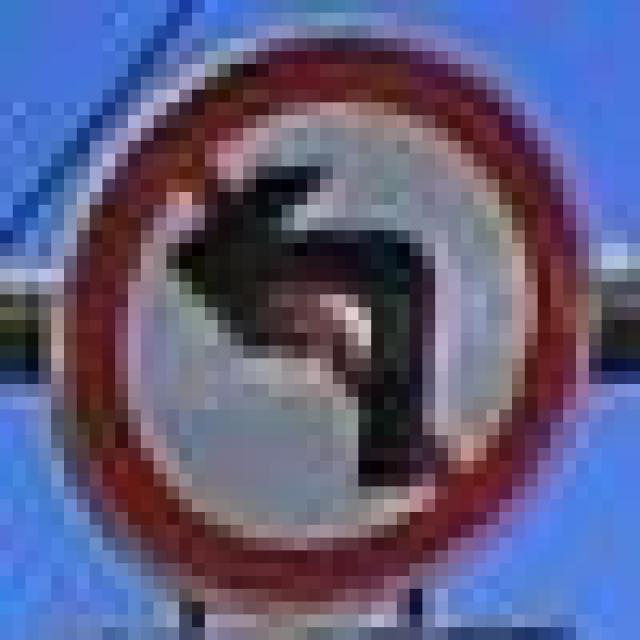left turn prohibited: (45, 27, 591, 598)
